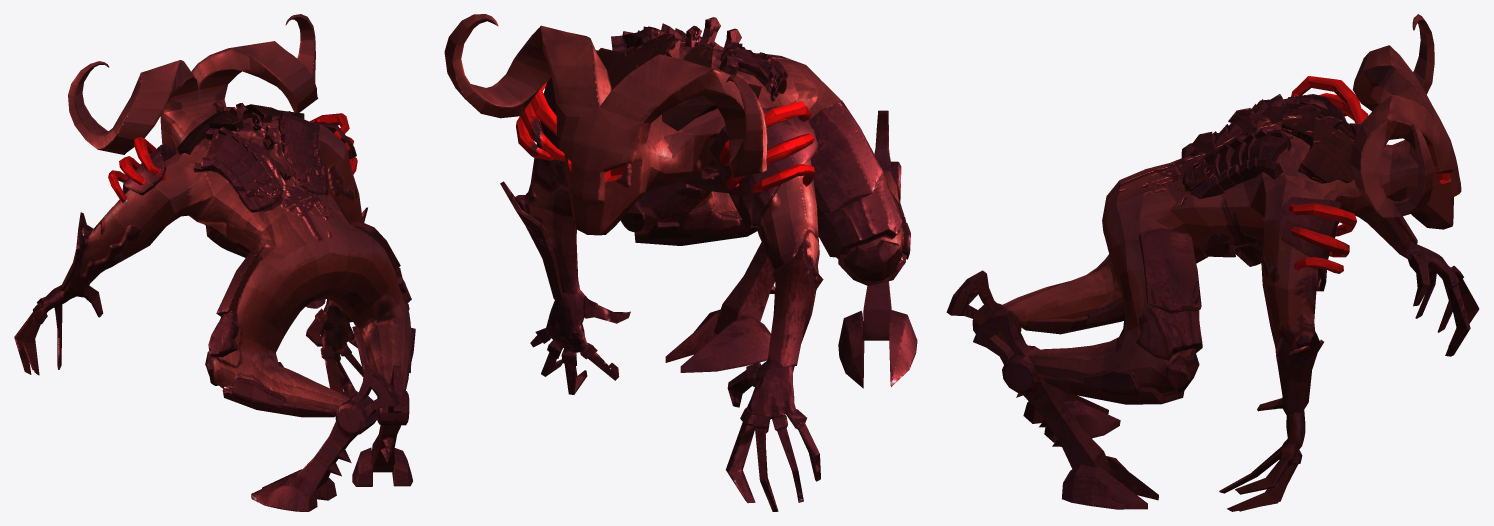
3 views of the same model, side by side, from view 1: azimuth 30°, elevation 25°; view 2: azimuth 150°, elevation 25°; view 3: azimuth 270°, elevation 25° (orthographic). The views are drawn at different scales.
Parts seen in each view (by area): view 1: Demon_LOW_Plane.002; view 2: Demon_LOW_Plane.002; view 3: Demon_LOW_Plane.002.
Boxes of the visible parts, x1,y1,x2,y2 form: Demon_LOW_Plane.002: (14, 14, 415, 511); Demon_LOW_Plane.002: (444, 14, 917, 511); Demon_LOW_Plane.002: (946, 14, 1479, 511).
Bounding box in the file's own units: 3.75 × 4.23 × 5.14.
